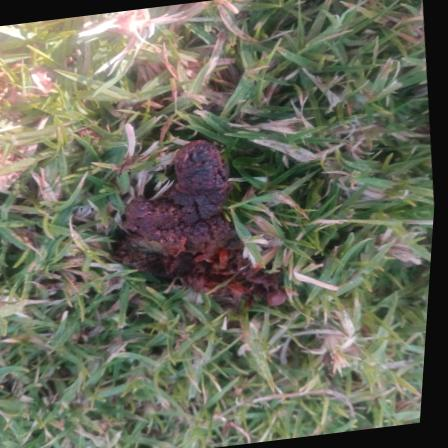dog-poop: (103, 130, 301, 327)
